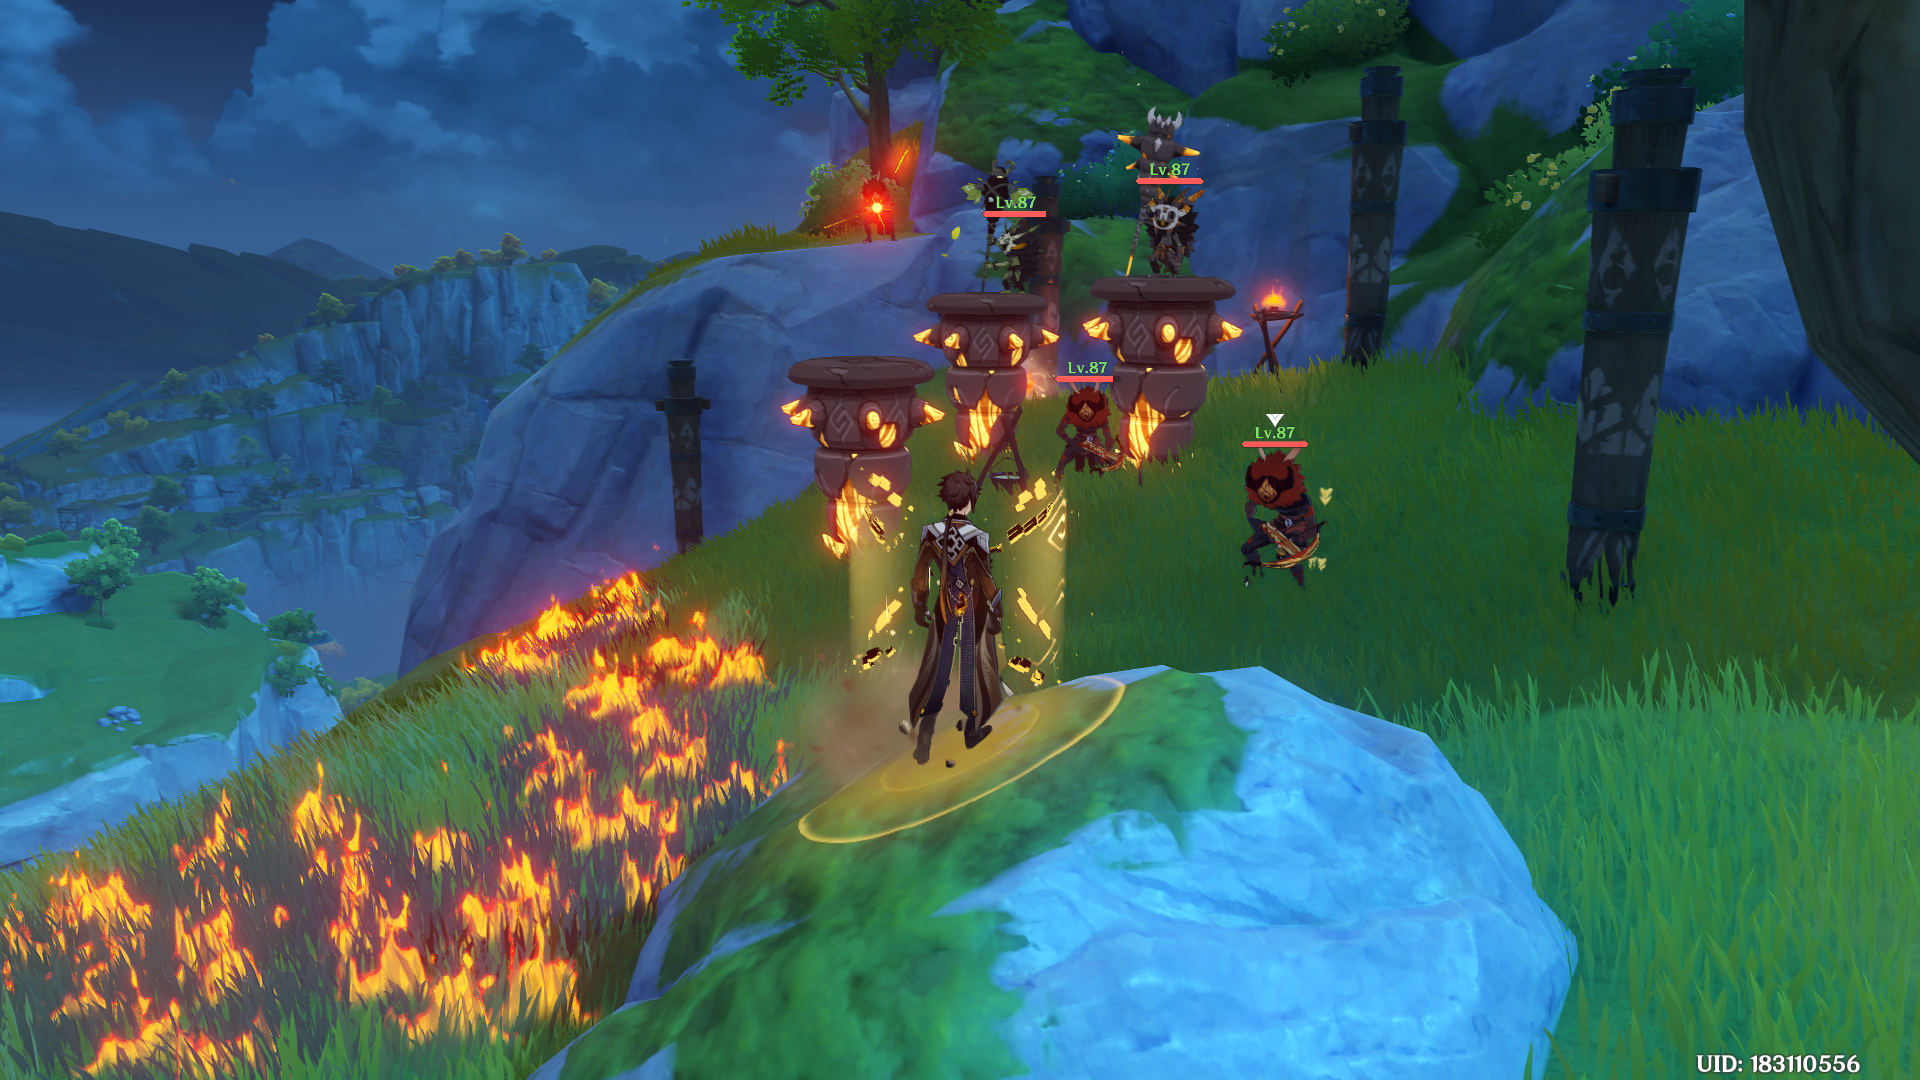character: (815, 458, 1062, 785)
hili: (1102, 105, 1234, 289), (938, 160, 1069, 323), (1200, 434, 1340, 582), (1036, 360, 1155, 509)
